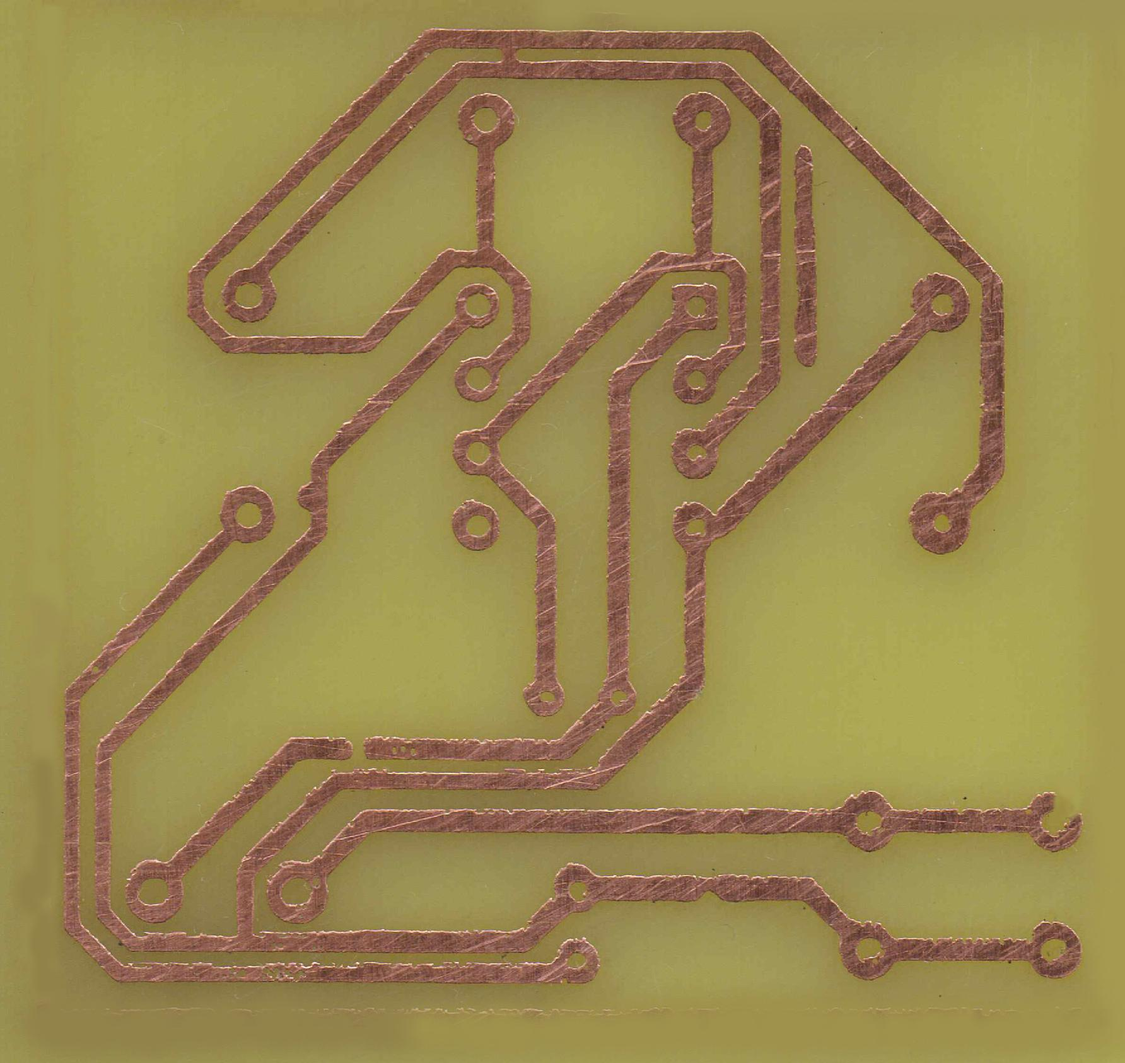missing_hole: (1023, 787, 1085, 856)
mouse_bite: (691, 866, 728, 911)
open_circuit: (336, 729, 378, 769)
short: (489, 32, 529, 79)
spur: (291, 480, 342, 513)
spurious_copper: (790, 142, 824, 375)
